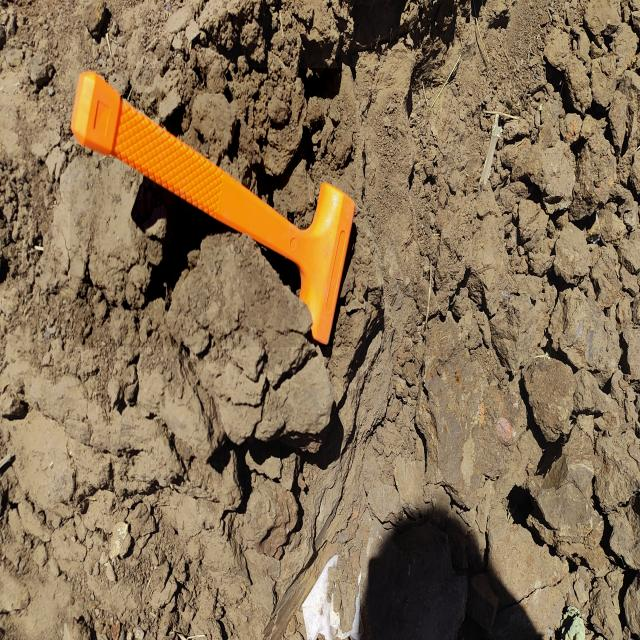Orange_hammer: (70, 68, 356, 347)
